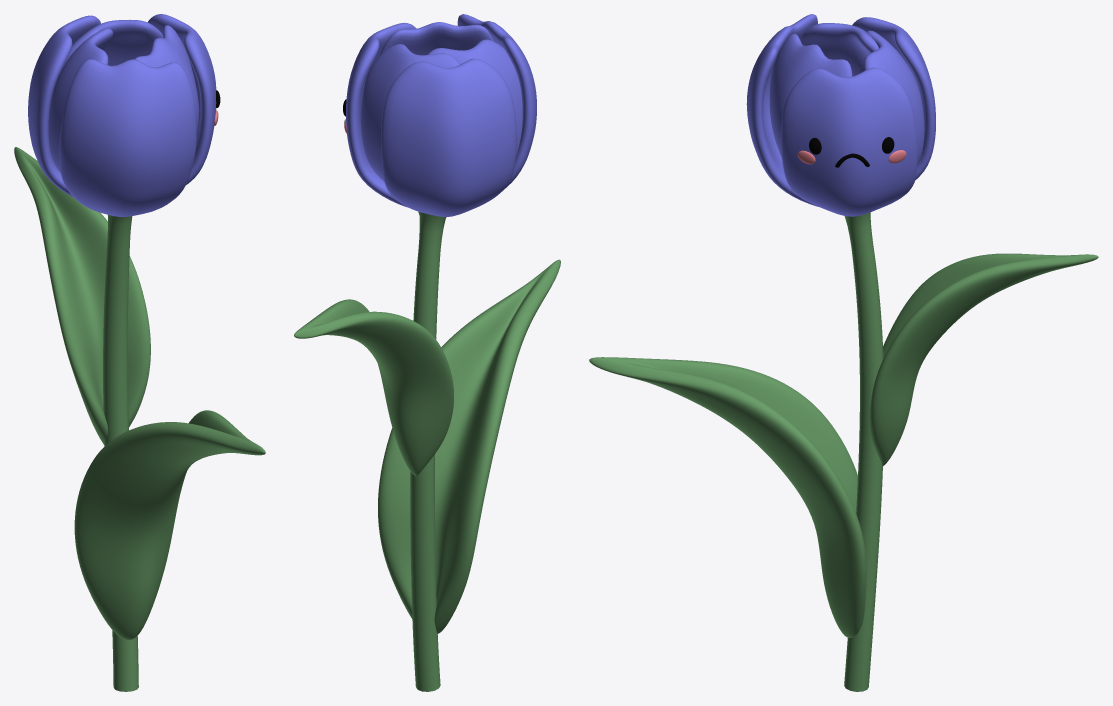
Rendered from sad.glb.
3 views of the same model, side by side, from view 1: azimuth 30°, elevation 25°; view 2: azimuth 150°, elevation 25°; view 3: azimuth 270°, elevation 25° (orthographic). The views are drawn at different scales.
Visible parts, largest first — view 1: Left Leaf, Petal 6, Right Leaf, Stem, Petal 3, Petal 4, Petal 1, Petal 2, Petal 5; view 2: Left Leaf, Petal 3, Right Leaf, Stem, Petal 2, Petal 4, Petal 6, Petal 5, Petal 1; view 3: Left Leaf, Petal 4, Right Leaf, Stem, Petal 6, Petal 5, Petal 3, Petal 1, Petal 2.
Part boxes in pixels (box(x1,y1,x2,y2)): Left Leaf: box(74, 410, 265, 639); Petal 6: box(59, 59, 196, 216); Right Leaf: box(14, 147, 150, 444); Stem: box(103, 215, 138, 691); Petal 3: box(28, 15, 100, 196); Petal 4: box(147, 14, 216, 184); Petal 1: box(48, 28, 113, 172); Petal 2: box(59, 19, 163, 74); Petal 5: box(134, 25, 199, 132); Left Leaf: box(378, 259, 560, 633); Petal 3: box(381, 58, 516, 216); Right Leaf: box(294, 299, 453, 476); Stem: box(410, 211, 446, 691); Petal 2: box(360, 44, 460, 181); Petal 4: box(346, 22, 416, 207); Petal 6: box(457, 14, 536, 188); Petal 5: box(380, 22, 494, 55); Petal 1: box(427, 39, 522, 157); Left Leaf: box(589, 357, 866, 637); Petal 4: box(781, 67, 917, 216); Right Leaf: box(869, 253, 1098, 466); Stem: box(844, 212, 883, 691); Petal 6: box(746, 14, 818, 206); Petal 5: box(769, 33, 852, 157); Petal 3: box(852, 17, 935, 180); Petal 1: box(800, 23, 878, 75); Petal 2: box(864, 30, 924, 164).
Bounding box in the file's own units: 1.71 × 6.34 × 4.53.
